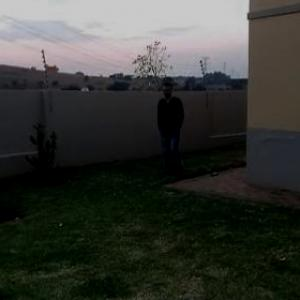follow: (156, 79, 191, 179)
